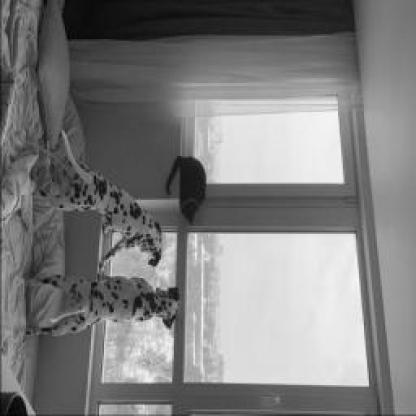dog: (35, 126, 165, 272), (26, 275, 177, 346)
